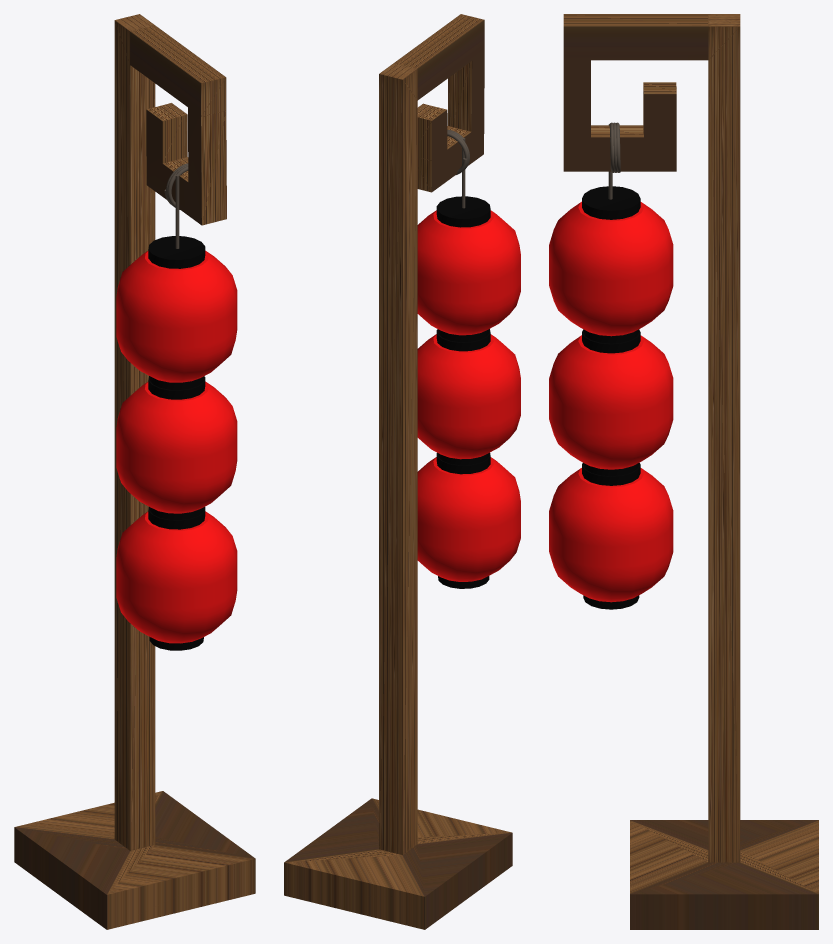
Rendered from red lantern.fbx.
The picture shows the model from 3 angles, left to right: view 1: azimuth 30°, elevation 25°; view 2: azimuth 150°, elevation 25°; view 3: azimuth 270°, elevation 25°; orthographic projection. The views are drawn at different scales.
Visible parts, largest first — view 1: Cube, Capsule, Capsule_2, Capsule_1; view 2: Cube, Capsule, Capsule_2, Capsule_1; view 3: Cube, Capsule, Capsule_2, Capsule_1.
Part boxes in pixels (box(x1,y1,x2,y2)): Cube: box(14, 14, 255, 929); Capsule: box(116, 236, 237, 389); Capsule_2: box(116, 506, 237, 650); Capsule_1: box(116, 376, 237, 519); Cube: box(284, 14, 512, 929); Capsule: box(417, 196, 520, 342); Capsule_2: box(417, 452, 520, 588); Capsule_1: box(417, 329, 520, 465); Cube: box(563, 14, 818, 929); Capsule: box(549, 186, 673, 343); Capsule_2: box(549, 463, 673, 609); Capsule_1: box(549, 330, 673, 476).
Bounding box in the file's own units: 704 × 3867 × 1084.
4 materials, 1 textured.
